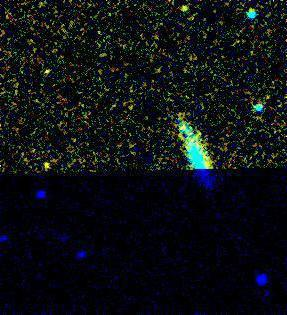star: (35, 149, 65, 179)
